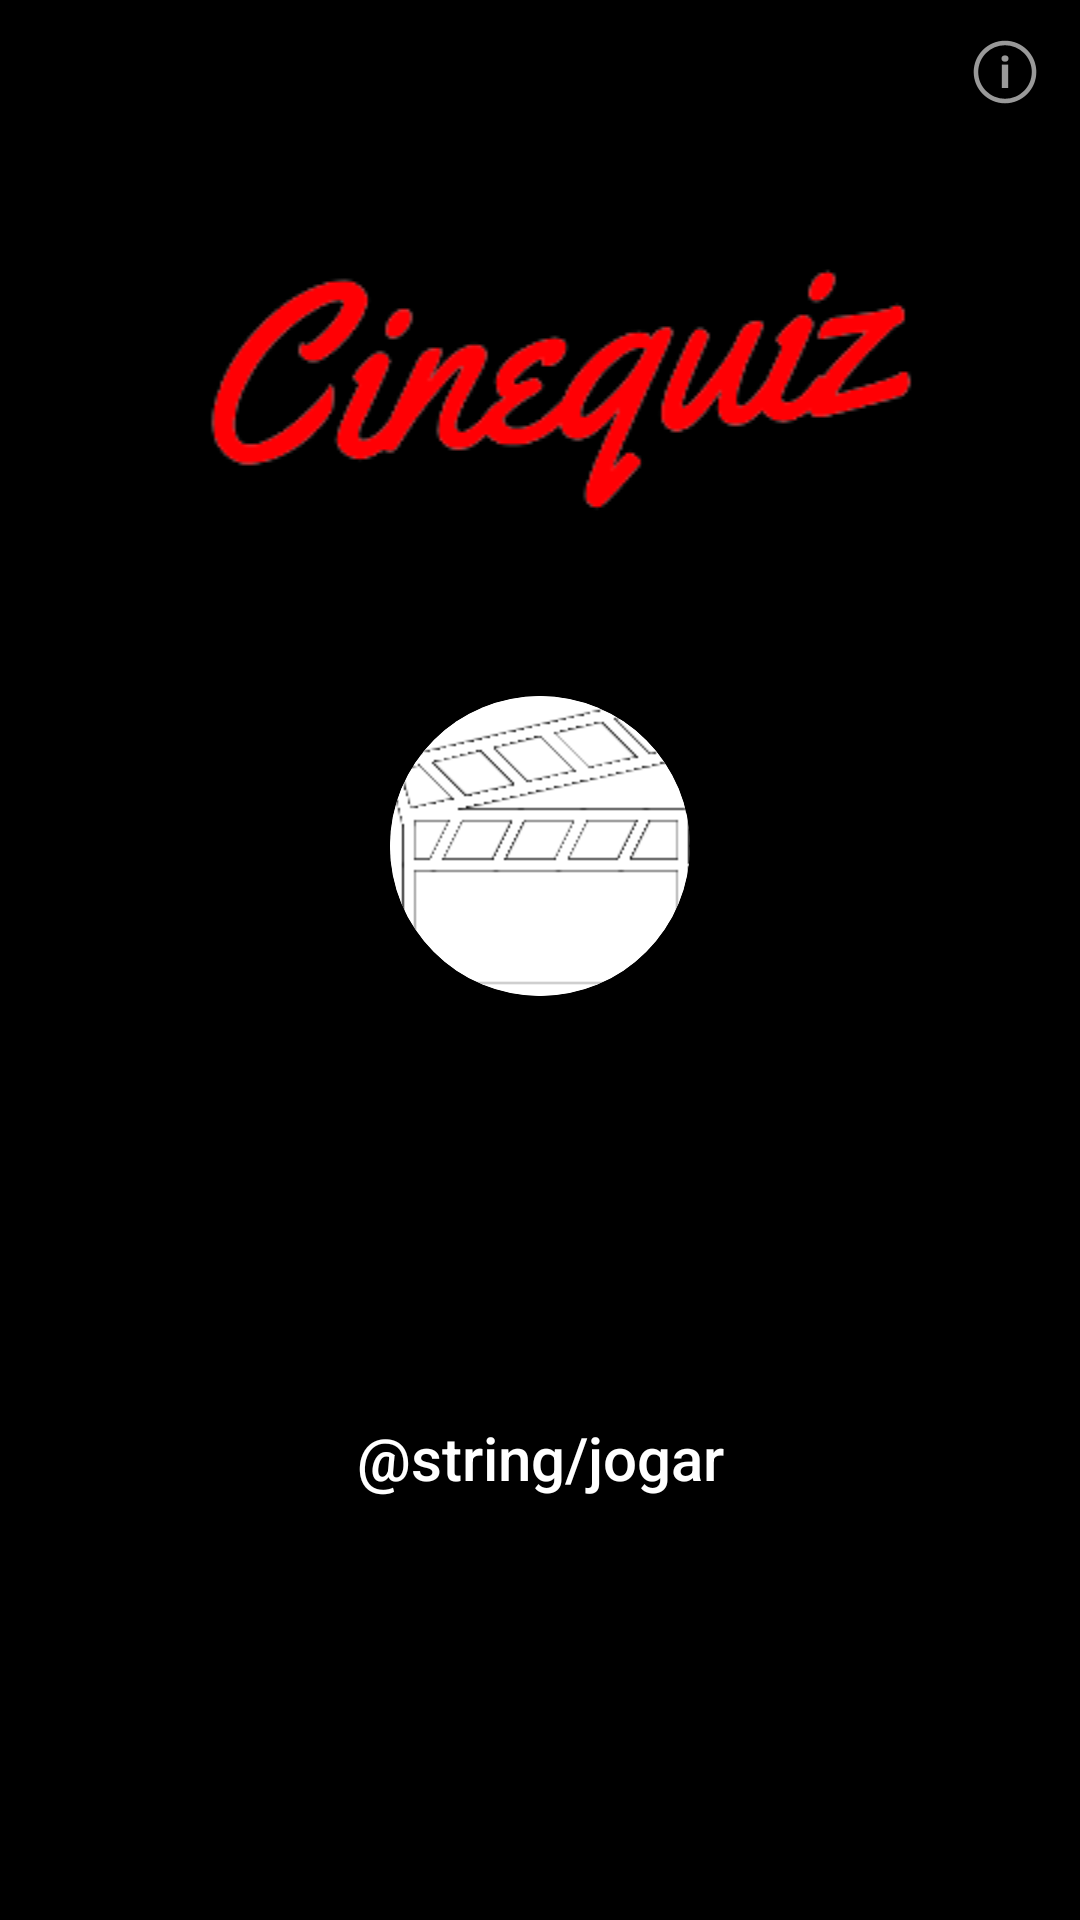

Point at icon controls on the screen. Image size 1080*1920, points as [x,y].
claquete: [540,846]
